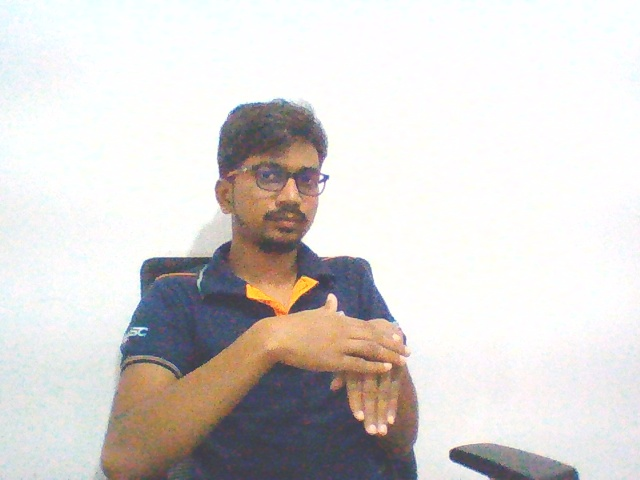pineapple: (249, 283, 413, 440)
